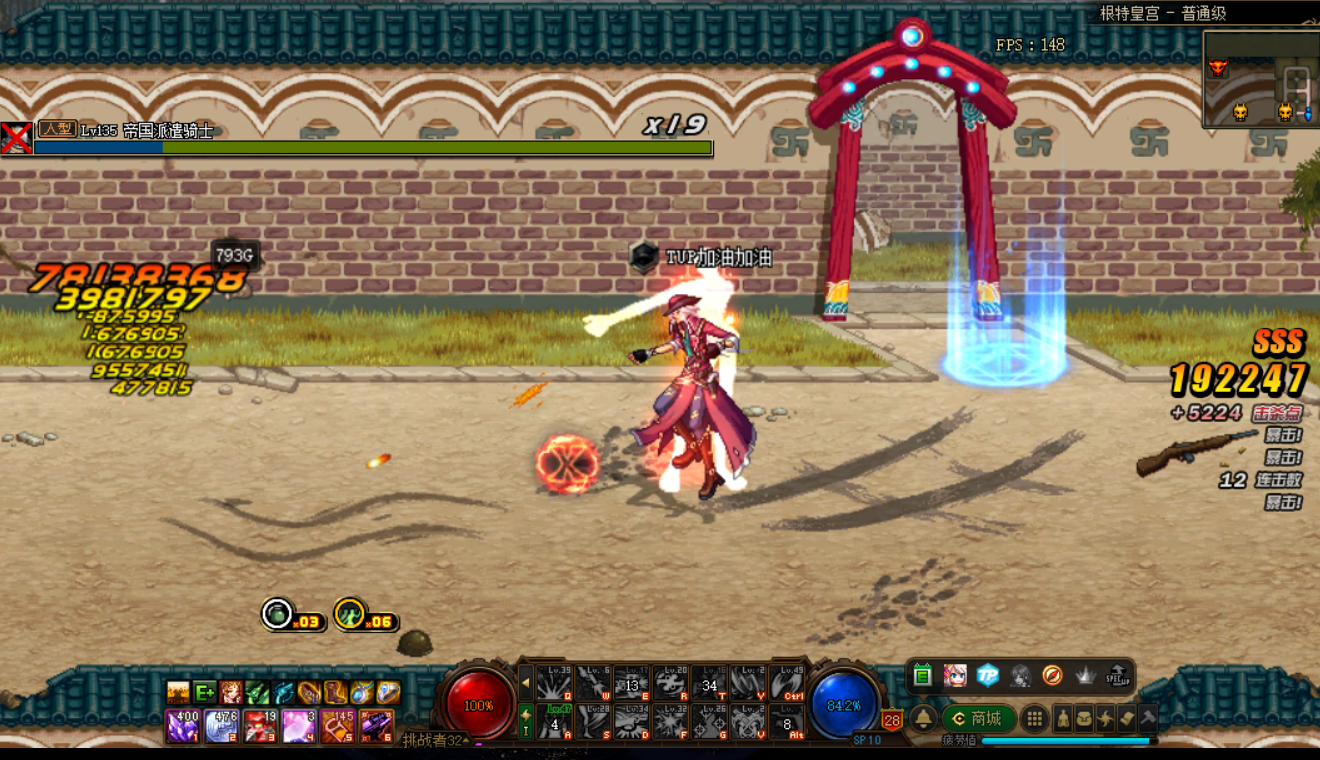warrior: (588, 291, 756, 506)
